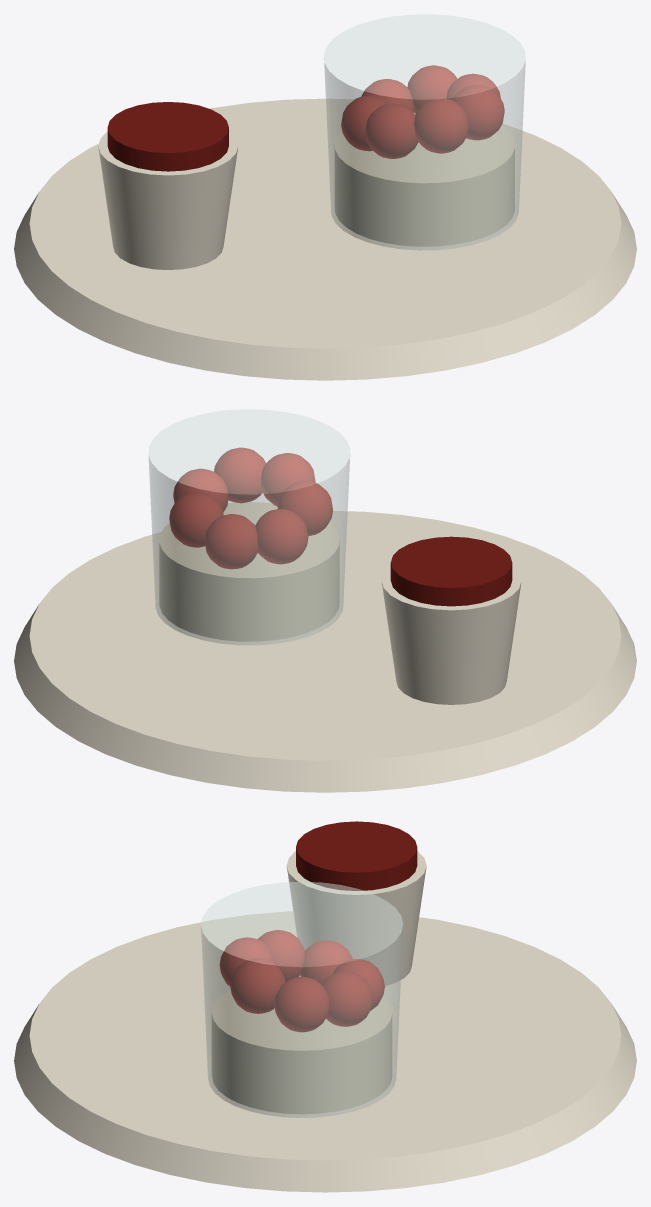
Rendered from campaign-5.glb.
The picture shows the model from 3 angles, top to bottom: view 1: azimuth 30°, elevation 25°; view 2: azimuth 150°, elevation 25°; view 3: azimuth 270°, elevation 25°; orthographic projection.
Bounding box in the file's own units: 0.4 × 0.127 × 0.4.
